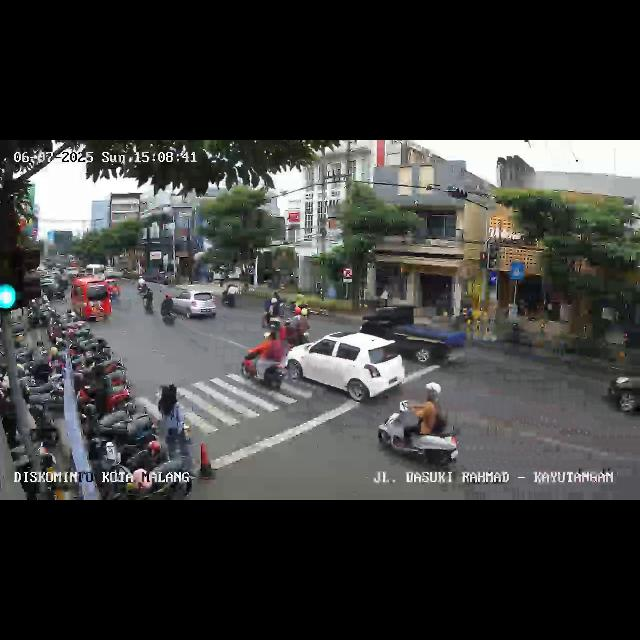car: (294, 331, 408, 407), (360, 306, 470, 372), (160, 284, 217, 324), (601, 363, 639, 421), (69, 276, 113, 324)
motorcycle: (376, 387, 458, 473), (242, 328, 288, 394), (285, 307, 311, 345), (262, 290, 282, 332), (160, 292, 176, 328), (222, 279, 240, 309), (142, 283, 154, 313)
person: (156, 380, 182, 438)
